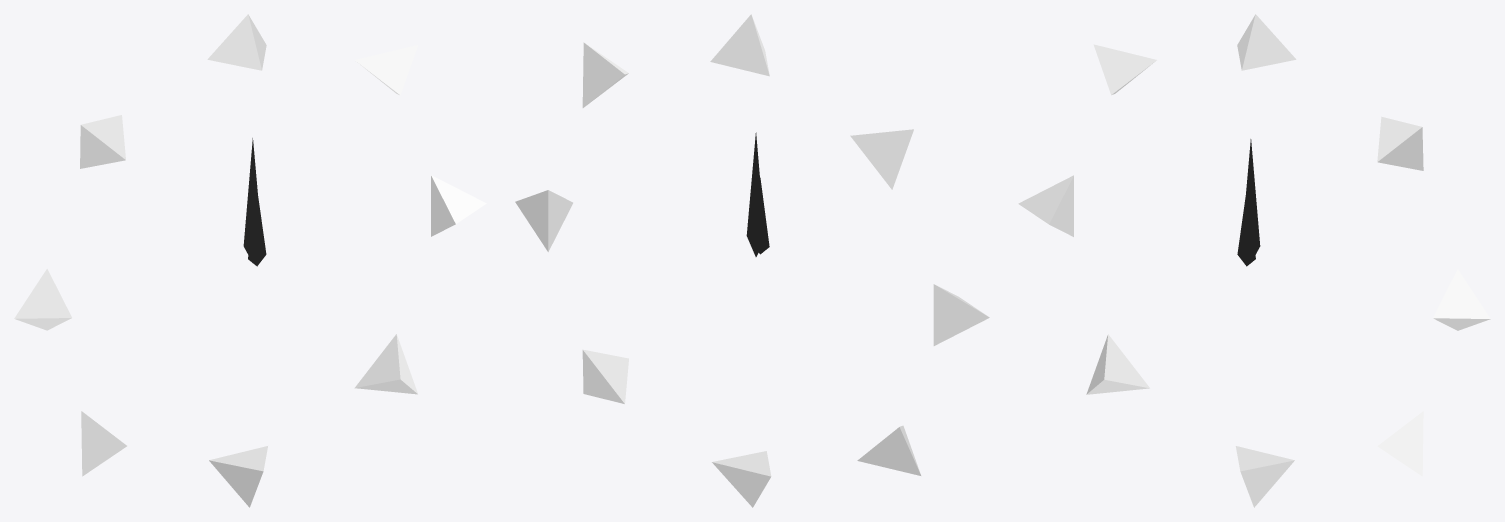
Rendered from uvmd-0231.glb.
The picture shows the model from 3 angles, left to right: view 1: azimuth 30°, elevation 25°; view 2: azimuth 150°, elevation 25°; view 3: azimuth 330°, elevation 25°; orthographic projection.
Visible parts, largest first — view 1: uvmd-0231; view 2: uvmd-0231; view 3: uvmd-0231.
Part boxes in pixels (left/top/right/bottom): uvmd-0231: left=14, top=14, right=486, bottom=507; uvmd-0231: left=515, top=14, right=989, bottom=507; uvmd-0231: left=1018, top=14, right=1490, bottom=507.
Bounding box in the file's own units: 2544 × 2534 × 273.
1 material, 1 textured.
